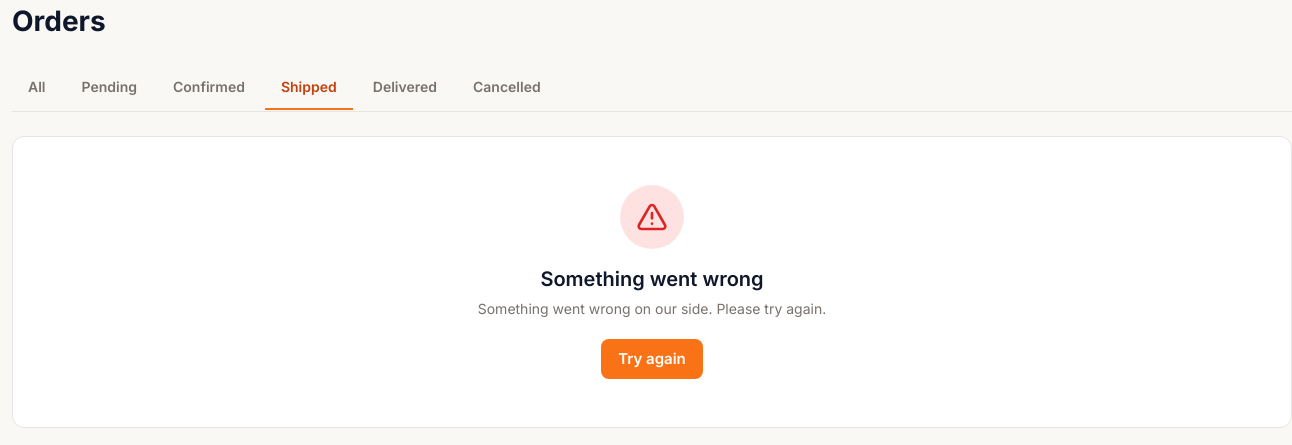
Test: Admin Orders page › shows empty tab message when no orders match and error retry on failure
Click the button "Try again" at (652, 359), box top-left (601, 339), bottom-right (703, 379)
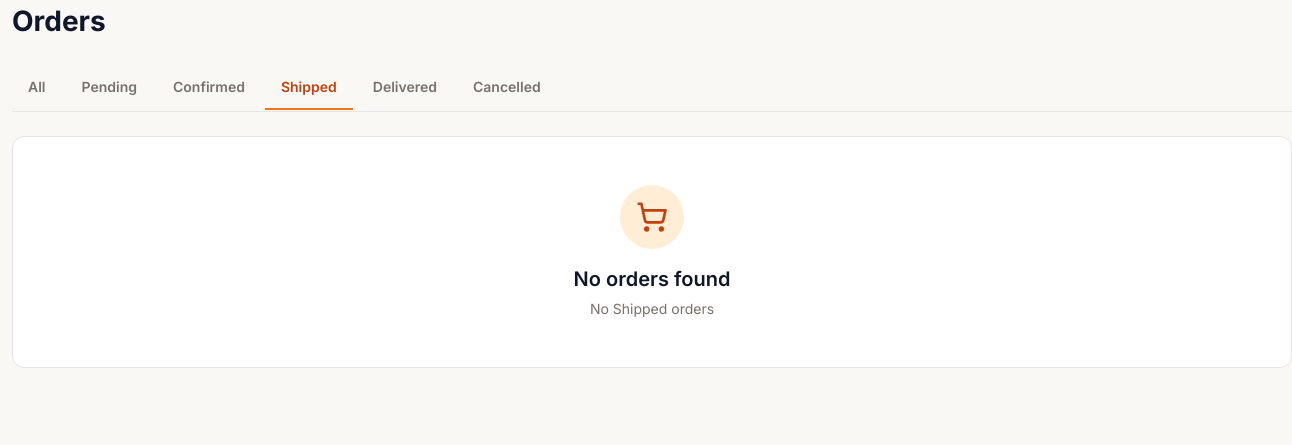
Check: the text "No Shipped orders" is shown, box top-left (590, 299), bottom-right (714, 319)
